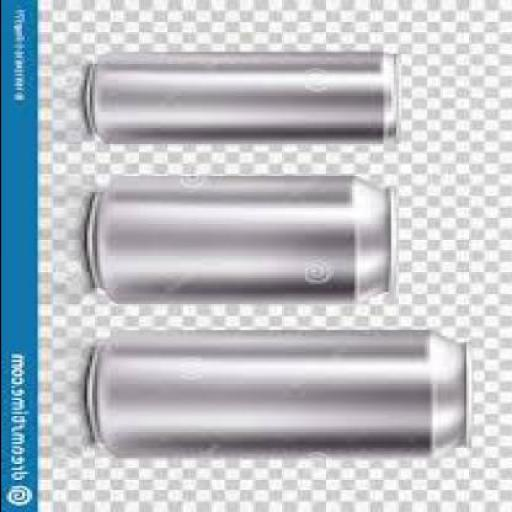metal: (88, 332, 472, 462), (86, 178, 398, 304), (86, 53, 398, 146)
